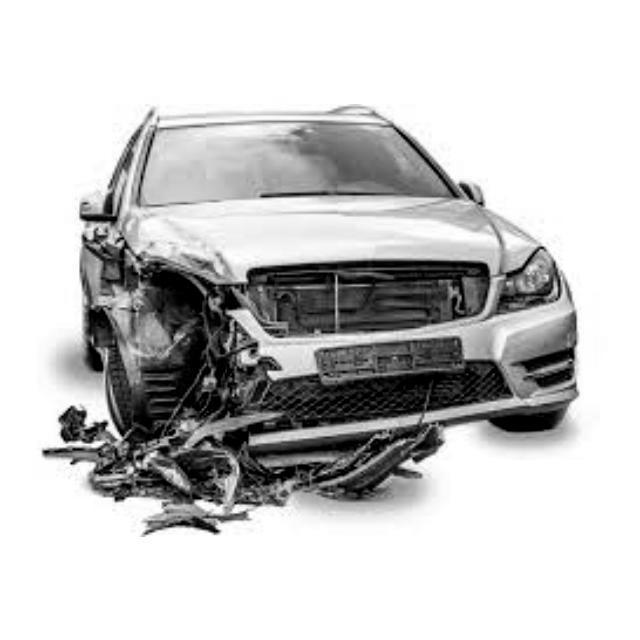Headlight-damage: (133, 268, 241, 347)
bonnet-dent: (134, 206, 273, 279)
front-bumper-dent: (131, 335, 434, 492)
